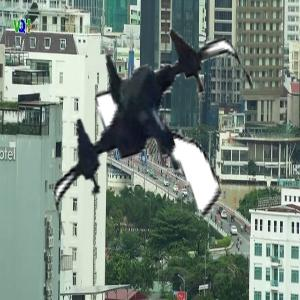drone: (35, 15, 264, 244)
